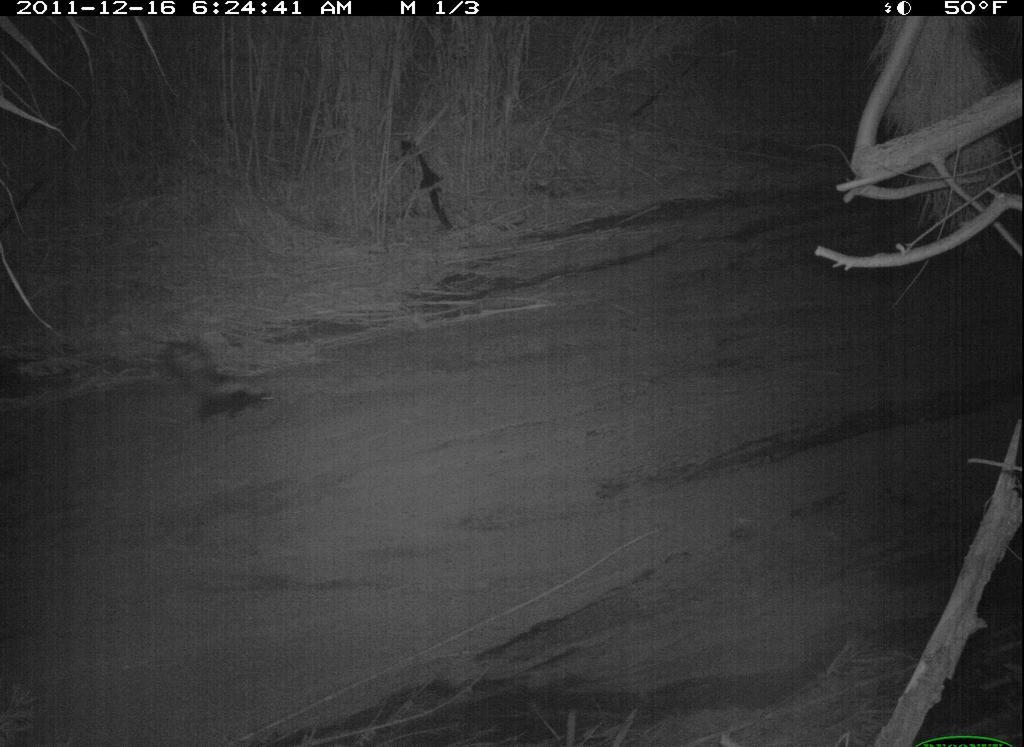skunk: (158, 336, 280, 425)
